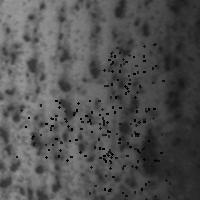pitted_surface: (1, 2, 188, 192), (89, 133, 147, 192), (48, 100, 106, 158), (102, 108, 161, 165), (75, 100, 135, 155), (16, 102, 73, 159), (103, 43, 162, 96), (109, 161, 169, 200)
